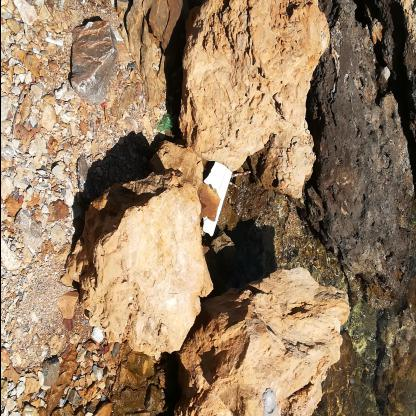kopuk: (202, 160, 232, 237)
